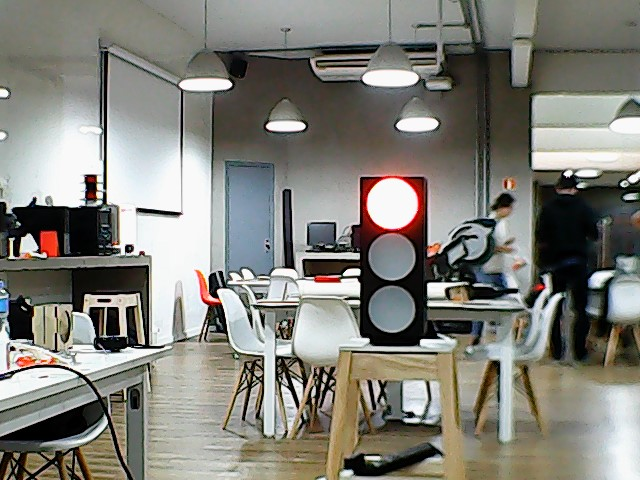vermelho: (357, 174, 430, 351)
